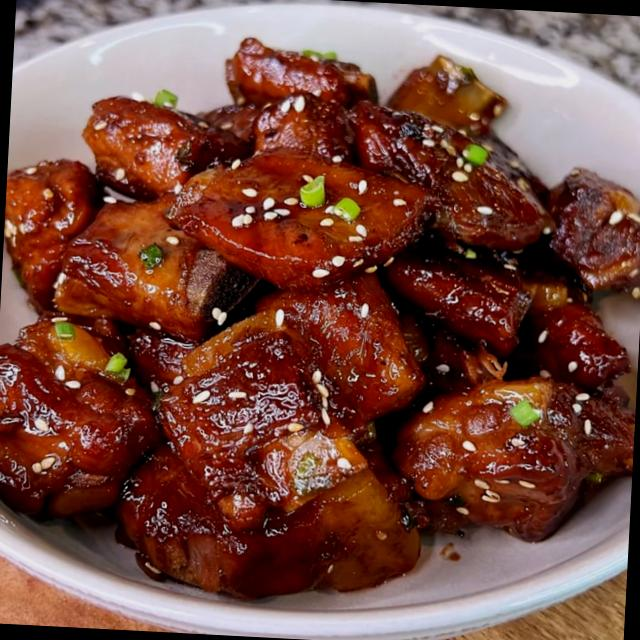suon xao: (0, 38, 640, 598)
